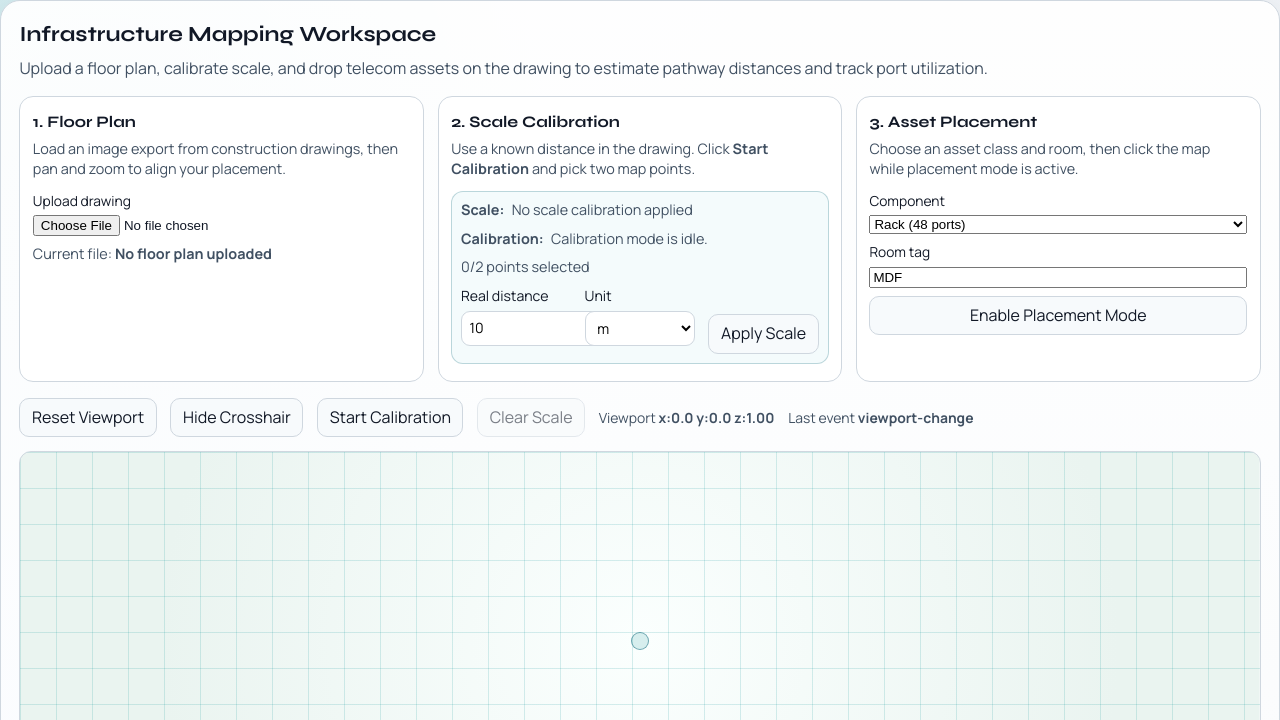
Test: MapSandboxPage › enters calibration mode and displays calibration controls
Click the button "Start Calibration" at (390, 418), box [317,398,463,438]
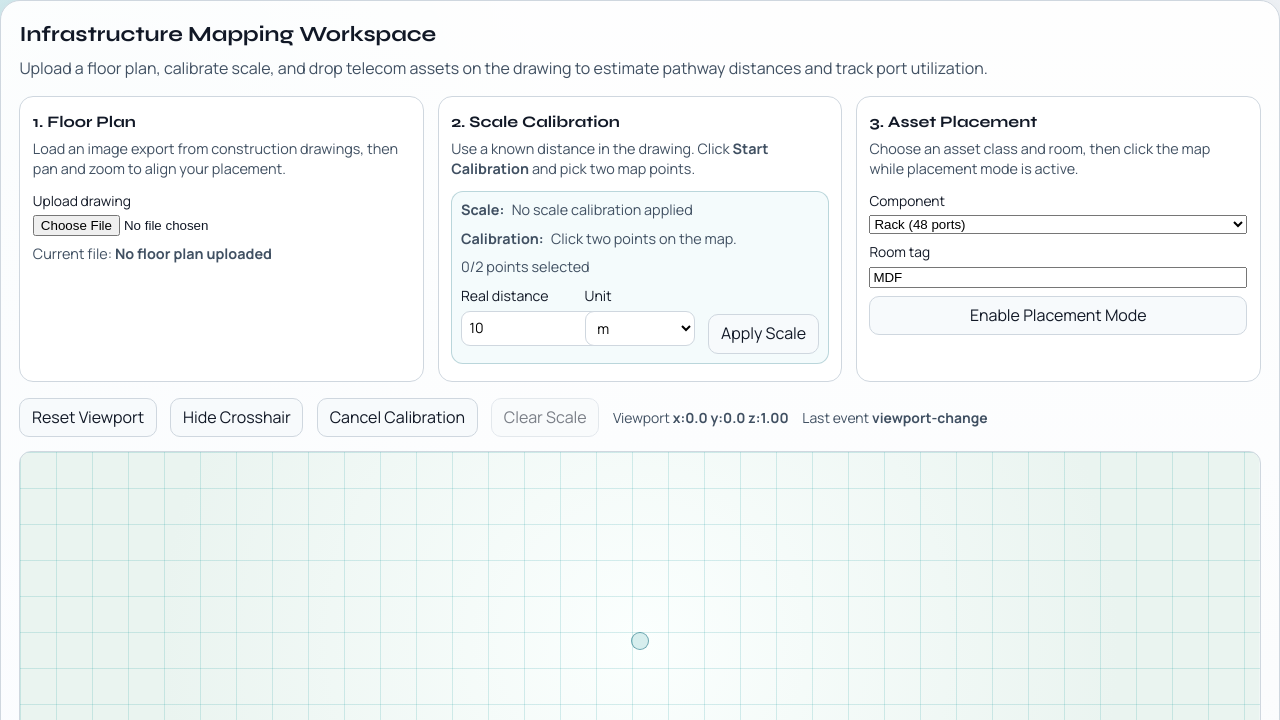
Expected: the text "0/2 points selected" is shown, [461,257,590,278]
Now the button "Cancel Calibration" is shown, box [317,398,478,438]
